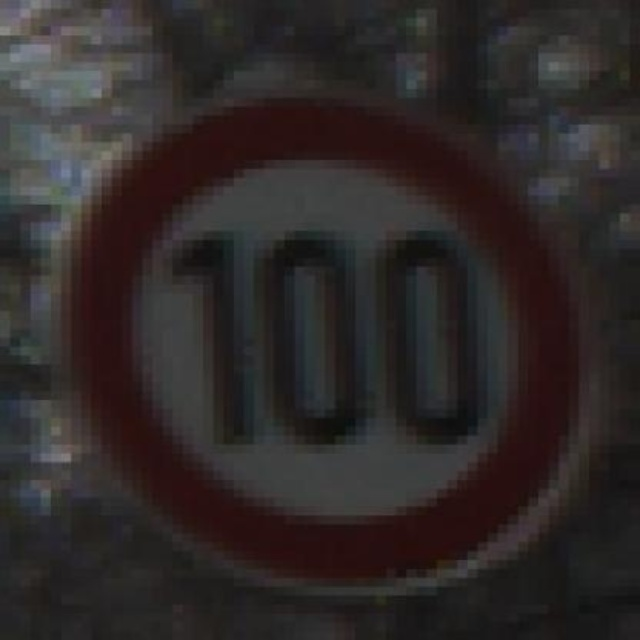Tốc độ tối đa cho phép 100km/h: (67, 93, 591, 594)
